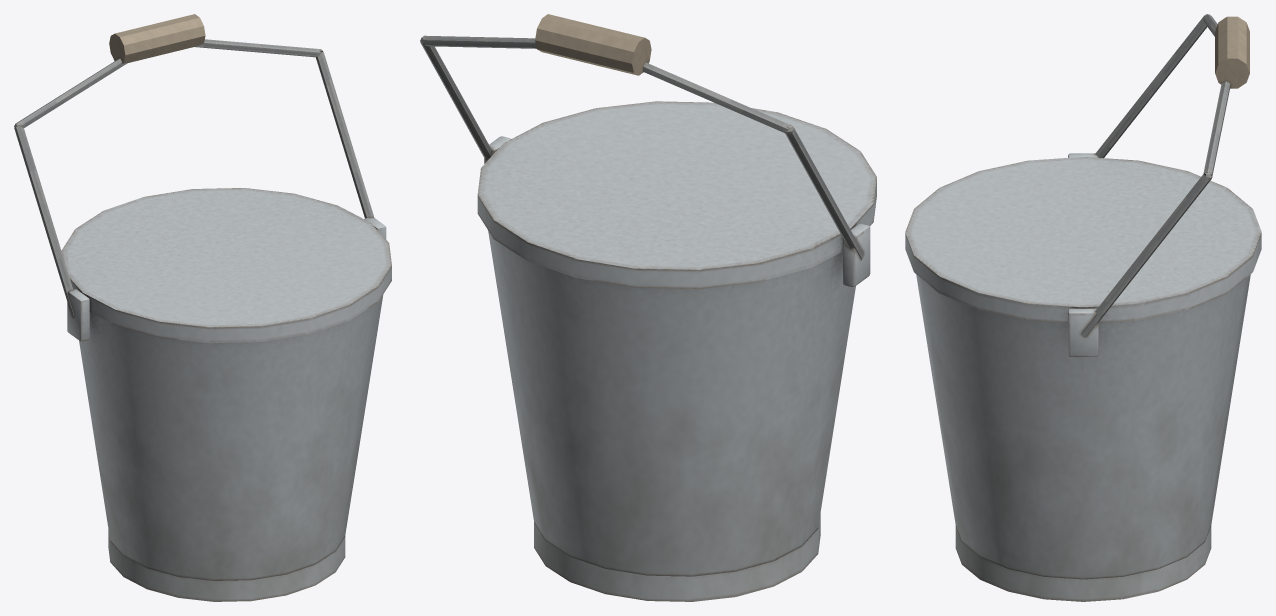
File: soviet_bucket.glb
3 views of the same model, side by side, from view 1: azimuth 30°, elevation 25°; view 2: azimuth 150°, elevation 25°; view 3: azimuth 270°, elevation 25° (orthographic). The views are drawn at different scales.
Parts seen in each view (by area): view 1: soviet_bucket; view 2: soviet_bucket; view 3: soviet_bucket.
Part boxes in pixels (x1,y1,x2,y2): soviet_bucket: (14,14,391,601); soviet_bucket: (420,14,876,601); soviet_bucket: (905,14,1261,601).
Bounding box in the file's own units: 0.3069 × 0.4533 × 0.287.
Materials: 1 (1 with a texture image).
